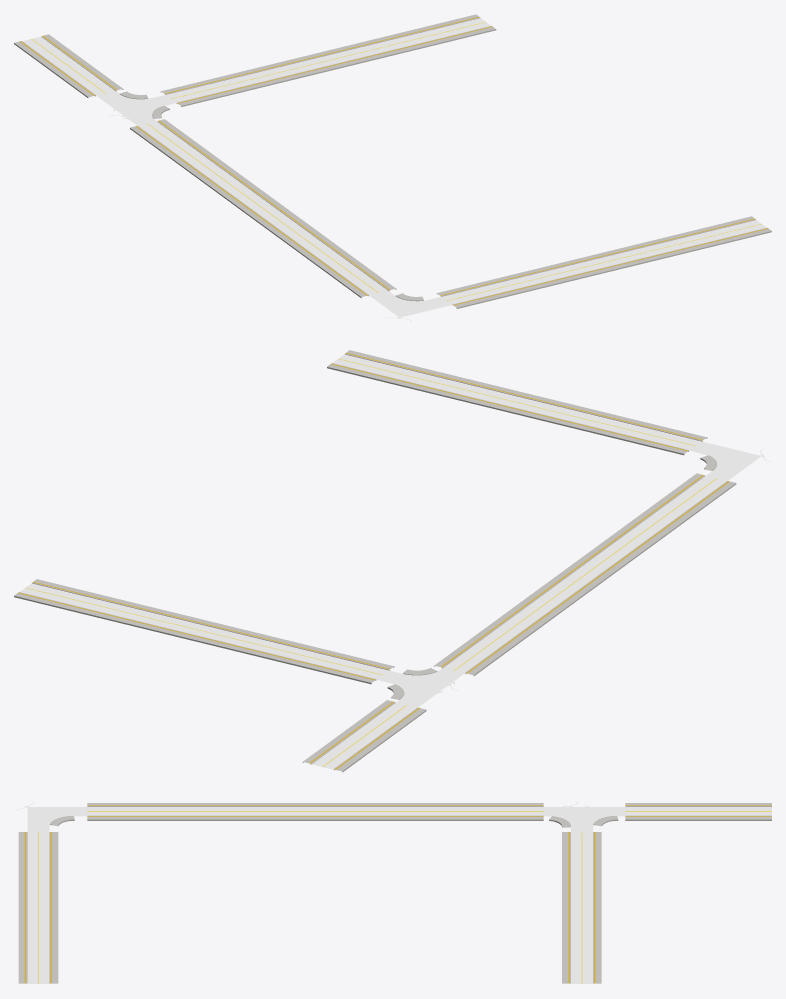
The model's file is roads_-5_3.gltf.
3 views of the same model, one above another, from view 1: azimuth 30°, elevation 25°; view 2: azimuth 150°, elevation 25°; view 3: azimuth 270°, elevation 25° (orthographic). The views are drawn at different scales.
Parts seen in each view (by area): view 1: roads_-5_3_SH_wet_asphalt, roads_-5_3_SH_sidewalk, roads_-5_3_Road_Tactile_Strip, roads_-5_3_SH_kerb, roads_-5_3_SH_road_marking_white, roads_-5_3_SH_road_marking_yellow; view 2: roads_-5_3_SH_wet_asphalt, roads_-5_3_SH_sidewalk, roads_-5_3_Road_Tactile_Strip, roads_-5_3_SH_kerb, roads_-5_3_SH_road_marking_white, roads_-5_3_SH_road_marking_yellow; view 3: roads_-5_3_SH_wet_asphalt, roads_-5_3_SH_sidewalk, roads_-5_3_SH_kerb, roads_-5_3_Road_Tactile_Strip, roads_-5_3_SH_road_marking_white, roads_-5_3_SH_road_marking_yellow.
Part boxes in pixels (bbox=[...]): roads_-5_3_SH_wet_asphalt: bbox=[23, 18, 766, 317]; roads_-5_3_SH_sidewalk: bbox=[14, 14, 771, 308]; roads_-5_3_Road_Tactile_Strip: bbox=[19, 17, 768, 305]; roads_-5_3_SH_kerb: bbox=[21, 17, 767, 305]; roads_-5_3_SH_road_marking_white: bbox=[22, 18, 755, 321]; roads_-5_3_SH_road_marking_yellow: bbox=[31, 22, 760, 300]; roads_-5_3_SH_wet_asphalt: bbox=[20, 354, 761, 769]; roads_-5_3_SH_sidewalk: bbox=[14, 350, 736, 772]; roads_-5_3_Road_Tactile_Strip: bbox=[18, 352, 729, 769]; roads_-5_3_SH_kerb: bbox=[19, 353, 727, 770]; roads_-5_3_SH_road_marking_white: bbox=[31, 354, 771, 769]; roads_-5_3_SH_road_marking_yellow: bbox=[25, 358, 716, 766]; roads_-5_3_SH_wet_asphalt: bbox=[27, 807, 771, 983]; roads_-5_3_SH_sidewalk: bbox=[18, 803, 771, 983]; roads_-5_3_SH_kerb: bbox=[26, 806, 771, 983]; roads_-5_3_Road_Tactile_Strip: bbox=[24, 805, 771, 983]; roads_-5_3_SH_road_marking_white: bbox=[14, 801, 771, 983]; roads_-5_3_SH_road_marking_yellow: bbox=[38, 811, 771, 983].
Size of what is drawn, in the model's own units: 159 by 0.506 by 279.
